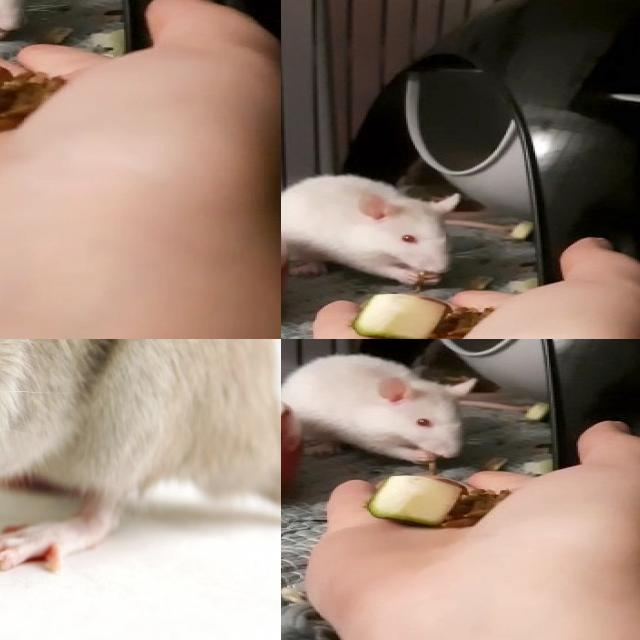rat: (0, 339, 259, 496), (281, 171, 468, 289), (281, 355, 482, 463)
